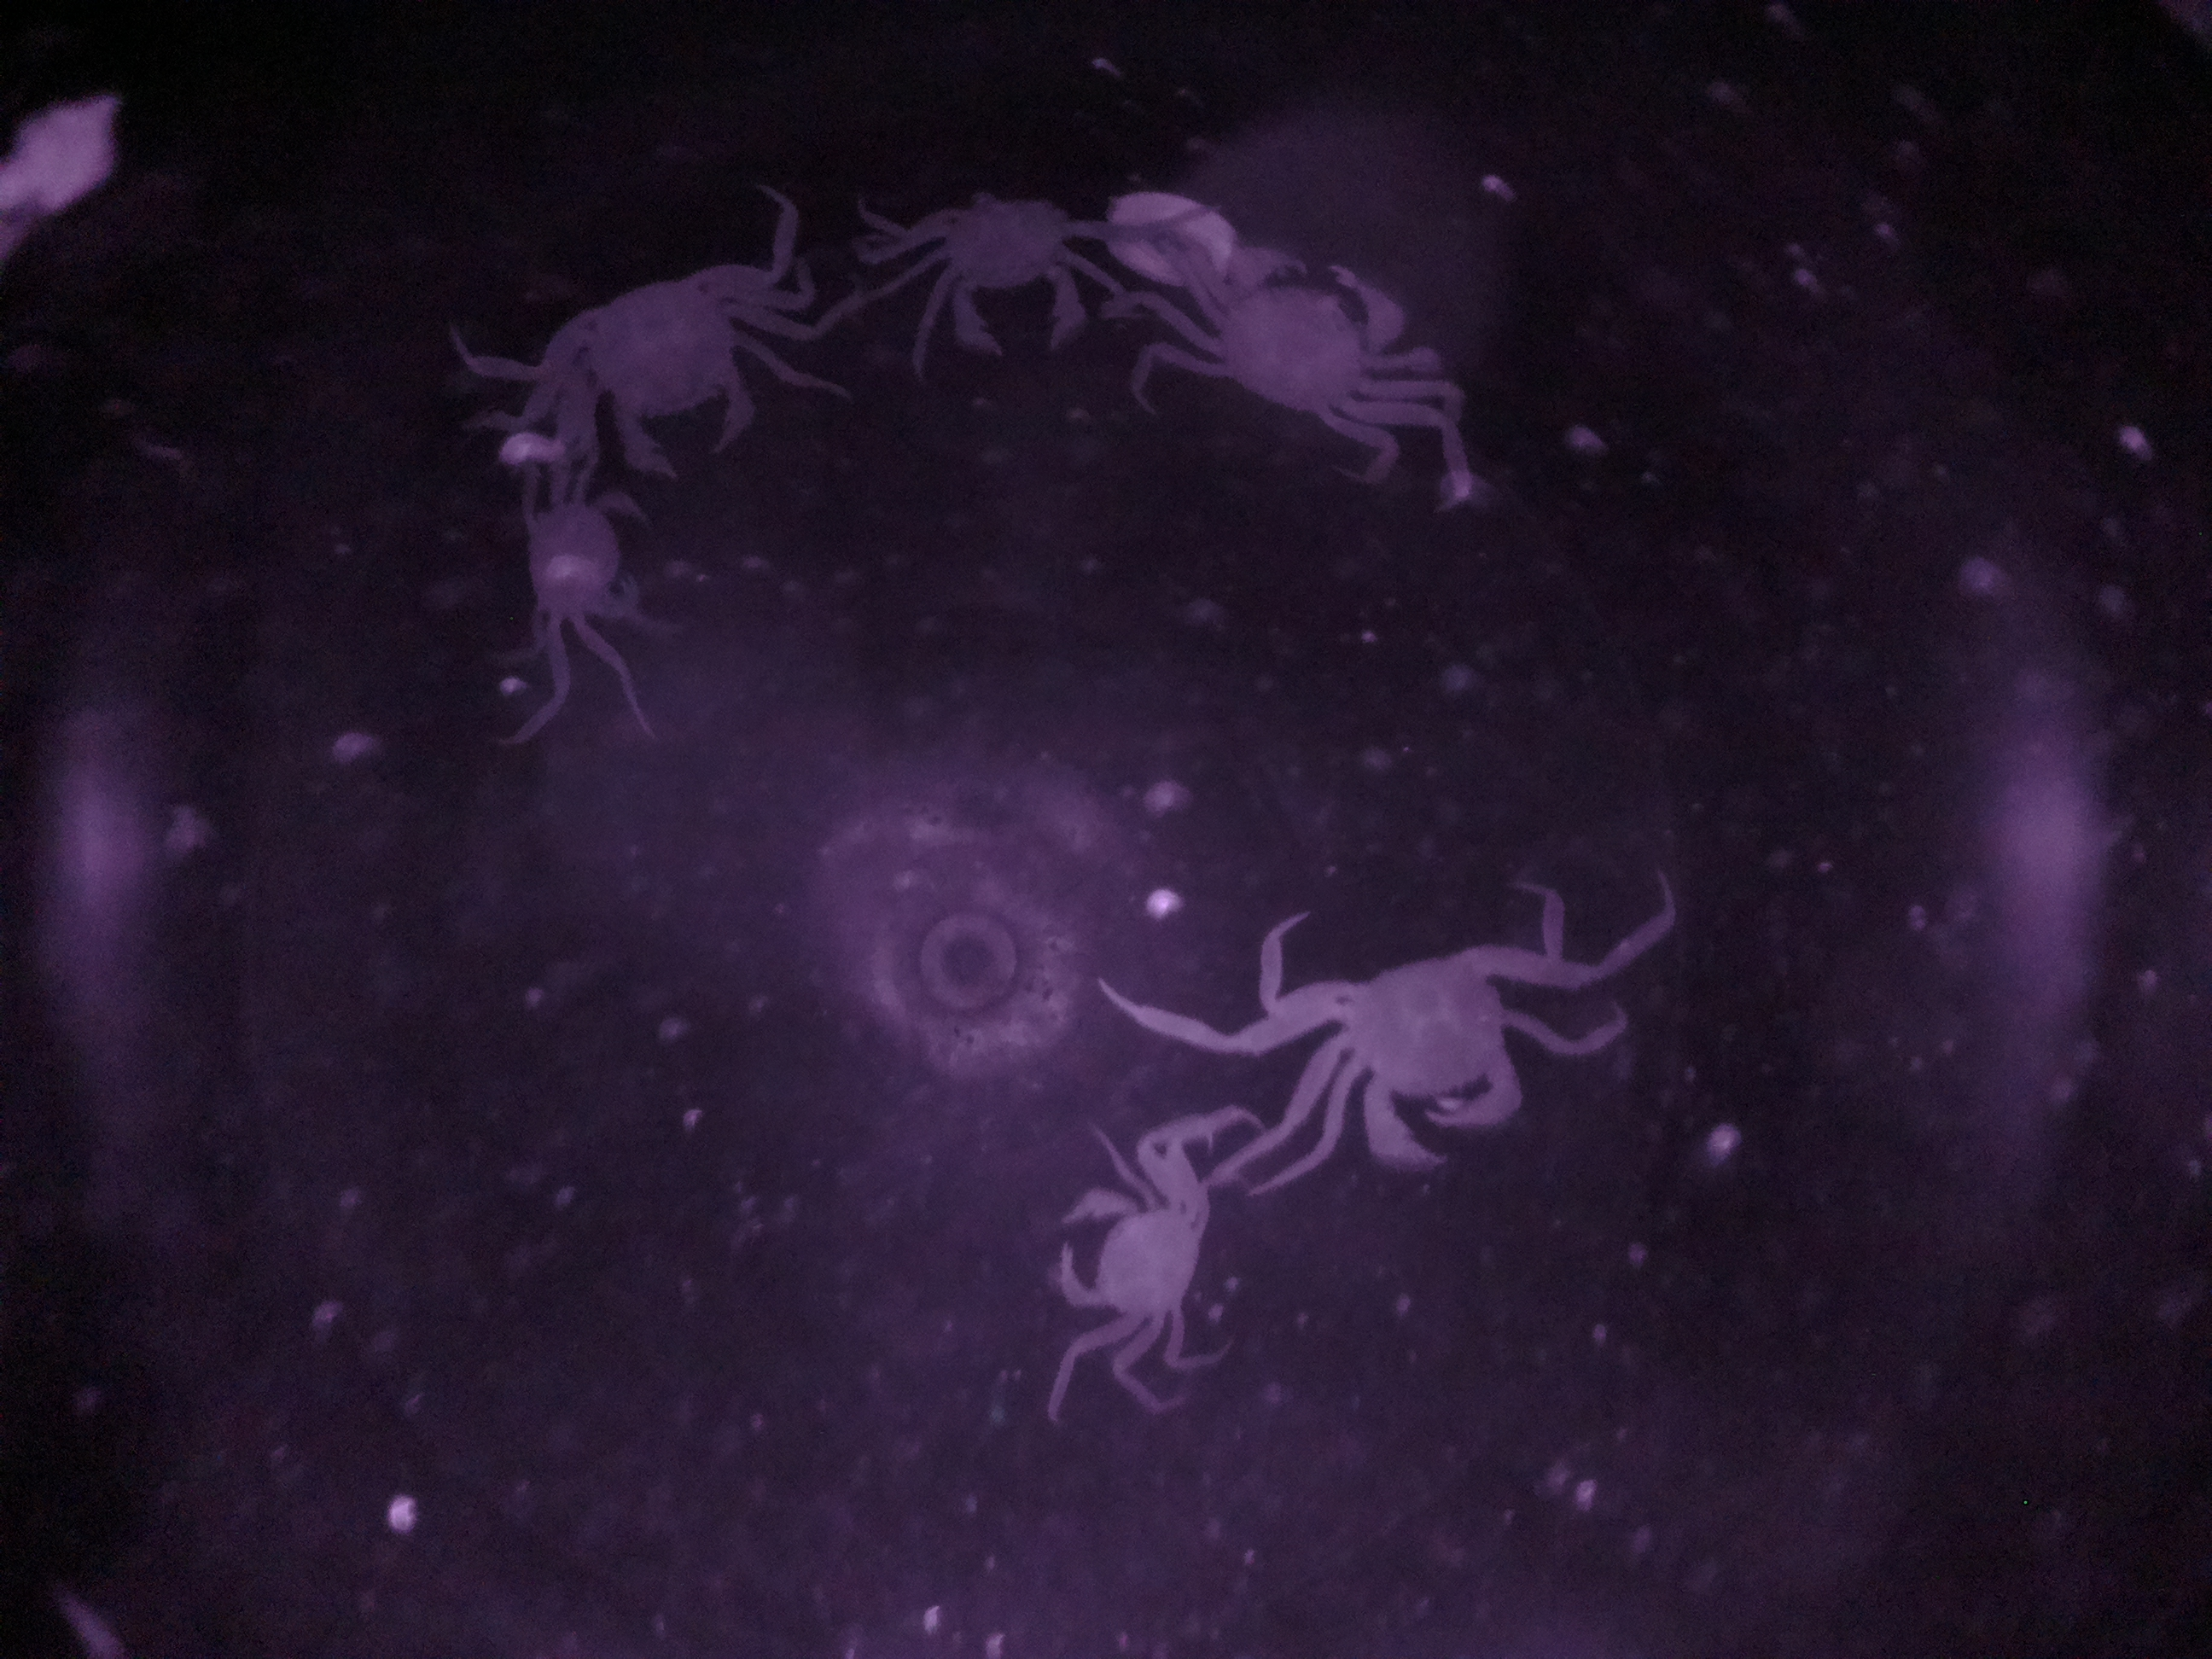Crab: (1261, 904, 1616, 1194), (524, 239, 810, 495), (1167, 239, 1458, 443), (1033, 1133, 1235, 1382), (895, 185, 1136, 378)
